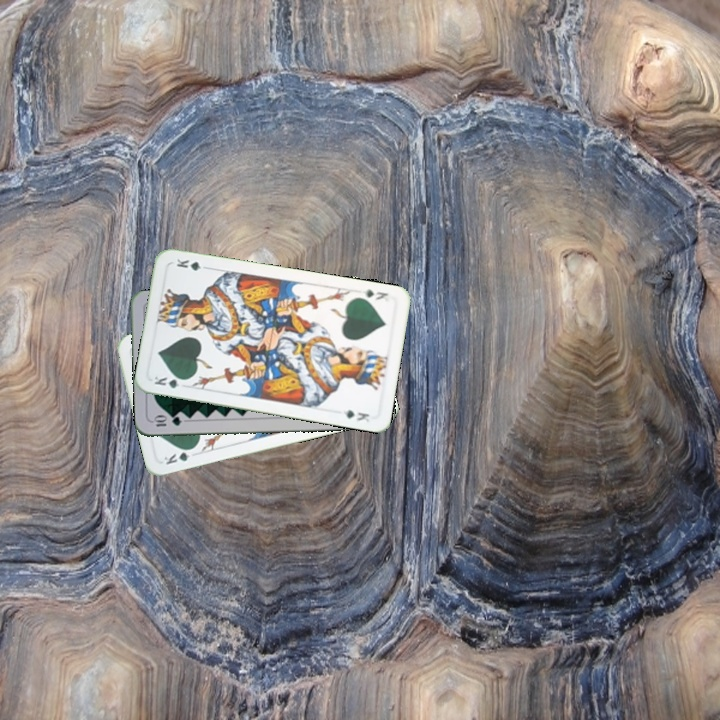G10: (150, 413, 184, 429)
GK: (160, 444, 198, 467), (150, 372, 190, 391), (358, 285, 390, 303)
